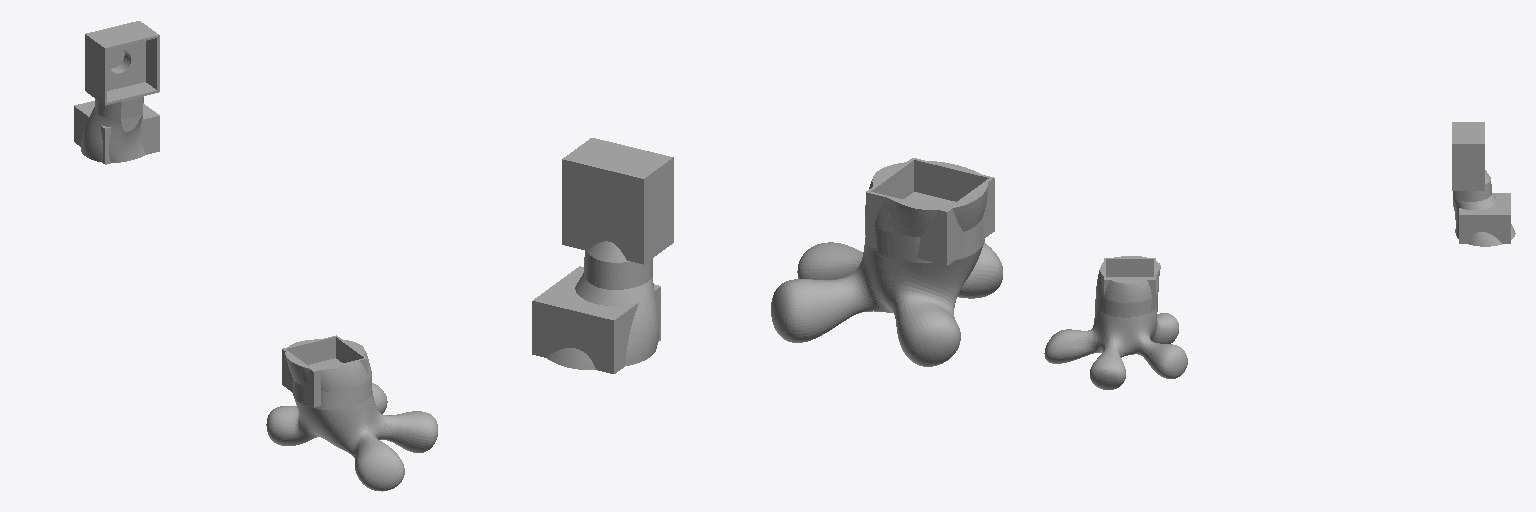
robot.urdf — FrogBot1_top-FrogBot1-x-3_bottom-FrogBot1-x-3:
<?xml version="1.0" ?>
<robot name="FrogBot1_top-FrogBot1-x-3_bottom-FrogBot1-x-3">

<material name="pla_5_percent_infill">
  <color rgba="0.700 0.700 0.700 1.000"/>
</material>

<link name="base_link">
  <inertial>
    <origin xyz="0 0 0" rpy="0 0 0"/>
    <mass value="1.4103143072721238"/>
    <inertia ixx="0.004671865419262023" iyy="0.01102984328633242" izz="0.011972094032648898" ixy="0.00015185420958179873" iyz="8.583160306759328e-05" ixz="-0.0012132770853355082"/>
  </inertial>
  <visual>
    <origin xyz="0 0 0" rpy="0 0 0"/>
    <geometry>
      <mesh filename="simple_meshes/base_link.stl" scale="0.001 0.001 0.001"/>
    </geometry>
    <material name="pla_5_percent_infill"/>
  </visual>
  <collision>
    <origin xyz="0 0 0" rpy="0 0 0"/>
    <geometry>
      <mesh filename="simple_meshes/base_link.stl" scale="0.001 0.001 0.001"/>
    </geometry>
  </collision>
</link>

<link name="body_1_0_1">
  <inertial>
    <origin xyz="-0.045735 -0.109621 -0.00462" rpy="0 0 0"/>
    <mass value="0.036816839315531674"/>
    <inertia ixx="3.3261861283565984e-05" iyy="3.519296624782467e-05" izz="1.3938356868074386e-05" ixy="-4.265336920233399e-07" iyz="2.6492382800553493e-06" ixz="5.157345946494912e-07"/>
  </inertial>
  <visual>
    <origin xyz="-0.045735 -0.109621 -0.00462" rpy="0 0 0"/>
    <geometry>
      <mesh filename="simple_meshes/body_1_0_1.stl" scale="0.001 0.001 0.001"/>
    </geometry>
    <material name="pla_5_percent_infill"/>
  </visual>
  <collision>
    <origin xyz="-0.045735 -0.109621 -0.00462" rpy="0 0 0"/>
    <geometry>
      <mesh filename="simple_meshes/body_1_0_1.stl" scale="0.001 0.001 0.001"/>
    </geometry>
  </collision>
</link>

<link name="body_1_1_1">
  <inertial>
    <origin xyz="0.086489 -0.109621 -0.018802" rpy="0 0 0"/>
    <mass value="0.06559506613853651"/>
    <inertia ixx="6.629905064154556e-05" iyy="7.393990886567713e-05" izz="3.9642127626775357e-05" ixy="5.856969708016406e-06" iyz="1.1941855874648944e-05" ixz="-1.8348720592576556e-05"/>
  </inertial>
  <visual>
    <origin xyz="0.086489 -0.109621 -0.018802" rpy="0 0 0"/>
    <geometry>
      <mesh filename="simple_meshes/body_1_1_1.stl" scale="0.001 0.001 0.001"/>
    </geometry>
    <material name="pla_5_percent_infill"/>
  </visual>
  <collision>
    <origin xyz="0.086489 -0.109621 -0.018802" rpy="0 0 0"/>
    <geometry>
      <mesh filename="simple_meshes/body_1_1_1.stl" scale="0.001 0.001 0.001"/>
    </geometry>
  </collision>
</link>

<link name="body_1_2_1">
  <inertial>
    <origin xyz="-0.040267 0.109621 -0.027764" rpy="0 0 0"/>
    <mass value="0.048496096984098784"/>
    <inertia ixx="6.754083196413001e-05" iyy="6.648024763795352e-05" izz="2.190181581625608e-05" ixy="5.970174061972733e-07" iyz="-1.235478626947593e-05" ixz="-1.747911975166136e-07"/>
  </inertial>
  <visual>
    <origin xyz="-0.040267 0.109621 -0.027764" rpy="0 0 0"/>
    <geometry>
      <mesh filename="simple_meshes/body_1_2_1.stl" scale="0.001 0.001 0.001"/>
    </geometry>
    <material name="pla_5_percent_infill"/>
  </visual>
  <collision>
    <origin xyz="-0.040267 0.109621 -0.027764" rpy="0 0 0"/>
    <geometry>
      <mesh filename="simple_meshes/body_1_2_1.stl" scale="0.001 0.001 0.001"/>
    </geometry>
  </collision>
</link>

<link name="body_1_3_1">
  <inertial>
    <origin xyz="0.090407 0.109621 -0.022193" rpy="0 0 0"/>
    <mass value="0.06692943976941065"/>
    <inertia ixx="7.334782159107065e-05" iyy="8.31248047402258e-05" izz="4.391970333306183e-05" ixy="-7.235259649224831e-06" iyz="-1.4657093617750547e-05" ixz="-2.22373108672184e-05"/>
  </inertial>
  <visual>
    <origin xyz="0.090407 0.109621 -0.022193" rpy="0 0 0"/>
    <geometry>
      <mesh filename="simple_meshes/body_1_3_1.stl" scale="0.001 0.001 0.001"/>
    </geometry>
    <material name="pla_5_percent_infill"/>
  </visual>
  <collision>
    <origin xyz="0.090407 0.109621 -0.022193" rpy="0 0 0"/>
    <geometry>
      <mesh filename="simple_meshes/body_1_3_1.stl" scale="0.001 0.001 0.001"/>
    </geometry>
  </collision>
</link>

<link name="body_2_0_1">
  <inertial>
    <origin xyz="-0.049562 -0.159797 0.090064" rpy="0 0 0"/>
    <mass value="0.09765953359959353"/>
    <inertia ixx="0.0001066576688500227" iyy="0.00011812377534957093" izz="0.00013324451863084468" ixy="-4.559227271790046e-06" iyz="-1.2718280083387143e-06" ixz="2.6854915758550788e-05"/>
  </inertial>
  <visual>
    <origin xyz="-0.049562 -0.159797 0.090064" rpy="0 0 0"/>
    <geometry>
      <mesh filename="simple_meshes/body_2_0_1.stl" scale="0.001 0.001 0.001"/>
    </geometry>
    <material name="pla_5_percent_infill"/>
  </visual>
  <collision>
    <origin xyz="-0.049562 -0.159797 0.090064" rpy="0 0 0"/>
    <geometry>
      <mesh filename="simple_meshes/body_2_0_1.stl" scale="0.001 0.001 0.001"/>
    </geometry>
  </collision>
</link>

<link name="body_2_1_1">
  <inertial>
    <origin xyz="0.121182 -0.173952 0.090064" rpy="0 0 0"/>
    <mass value="0.10349185384295746"/>
    <inertia ixx="0.00011224256670325575" iyy="0.00012067525629311975" izz="0.00013839302704228736" ixy="7.678045576991512e-07" iyz="1.60016884134021e-05" ixz="3.2554826547826887e-05"/>
  </inertial>
  <visual>
    <origin xyz="0.121182 -0.173952 0.090064" rpy="0 0 0"/>
    <geometry>
      <mesh filename="simple_meshes/body_2_1_1.stl" scale="0.001 0.001 0.001"/>
    </geometry>
    <material name="pla_5_percent_infill"/>
  </visual>
  <collision>
    <origin xyz="0.121182 -0.173952 0.090064" rpy="0 0 0"/>
    <geometry>
      <mesh filename="simple_meshes/body_2_1_1.stl" scale="0.001 0.001 0.001"/>
    </geometry>
  </collision>
</link>

<link name="body_2_2_1">
  <inertial>
    <origin xyz="-0.04311 0.170506 0.090064" rpy="0 0 0"/>
    <mass value="0.09960767761848395"/>
    <inertia ixx="0.00011535737008446043" iyy="0.0001088533759726648" izz="0.00013560616396882325" ixy="9.99440604436408e-07" iyz="-6.676525370611329e-06" ixz="1.915443571425424e-05"/>
  </inertial>
  <visual>
    <origin xyz="-0.04311 0.170506 0.090064" rpy="0 0 0"/>
    <geometry>
      <mesh filename="simple_meshes/body_2_2_1.stl" scale="0.001 0.001 0.001"/>
    </geometry>
    <material name="pla_5_percent_infill"/>
  </visual>
  <collision>
    <origin xyz="-0.04311 0.170506 0.090064" rpy="0 0 0"/>
    <geometry>
      <mesh filename="simple_meshes/body_2_2_1.stl" scale="0.001 0.001 0.001"/>
    </geometry>
  </collision>
</link>

<link name="body_2_3_1">
  <inertial>
    <origin xyz="0.129712 0.175384 0.090064" rpy="0 0 0"/>
    <mass value="0.10186277814313772"/>
    <inertia ixx="0.00011995536838540783" iyy="0.00011579226631780459" izz="0.00012879421767877323" ixy="5.809966107374505e-06" iyz="-2.166733805539483e-05" ixz="3.203201460845939e-05"/>
  </inertial>
  <visual>
    <origin xyz="0.129712 0.175384 0.090064" rpy="0 0 0"/>
    <geometry>
      <mesh filename="simple_meshes/body_2_3_1.stl" scale="0.001 0.001 0.001"/>
    </geometry>
    <material name="pla_5_percent_infill"/>
  </visual>
  <collision>
    <origin xyz="0.129712 0.175384 0.090064" rpy="0 0 0"/>
    <geometry>
      <mesh filename="simple_meshes/body_2_3_1.stl" scale="0.001 0.001 0.001"/>
    </geometry>
  </collision>
</link>

<joint name="joint_1_0" type="revolute">
  <origin xyz="0.045735 0.109621 0.00462" rpy="0 0 0"/>
  <parent link="base_link"/>
  <child link="body_1_0_1"/>
  <axis xyz="1.0 0.0 0.0"/>
  <limit upper="1.2" lower="-1.2" effort="3.8" velocity="5.4"/>
</joint>
<transmission name="joint_1_0_tran">
  <type>transmission_interface/SimpleTransmission</type>
  <joint name="joint_1_0">
    <hardwareInterface>PositionJointInterface</hardwareInterface>
  </joint>
  <actuator name="joint_1_0_actr">
    <hardwareInterface>PositionJointInterface</hardwareInterface>
    <mechanicalReduction>1</mechanicalReduction>
  </actuator>
</transmission>

<joint name="joint_1_1" type="revolute">
  <origin xyz="-0.086489 0.109621 0.018802" rpy="0 0 0"/>
  <parent link="base_link"/>
  <child link="body_1_1_1"/>
  <axis xyz="1.0 0.0 0.0"/>
  <limit upper="1.2" lower="-1.2" effort="3.8" velocity="5.4"/>
</joint>
<transmission name="joint_1_1_tran">
  <type>transmission_interface/SimpleTransmission</type>
  <joint name="joint_1_1">
    <hardwareInterface>PositionJointInterface</hardwareInterface>
  </joint>
  <actuator name="joint_1_1_actr">
    <hardwareInterface>PositionJointInterface</hardwareInterface>
    <mechanicalReduction>1</mechanicalReduction>
  </actuator>
</transmission>

<joint name="joint_1_2" type="revolute">
  <origin xyz="0.040267 -0.109621 0.027764" rpy="0 0 0"/>
  <parent link="base_link"/>
  <child link="body_1_2_1"/>
  <axis xyz="1.0 0.0 0.0"/>
  <limit upper="1.2" lower="-1.2" effort="3.8" velocity="5.4"/>
</joint>
<transmission name="joint_1_2_tran">
  <type>transmission_interface/SimpleTransmission</type>
  <joint name="joint_1_2">
    <hardwareInterface>PositionJointInterface</hardwareInterface>
  </joint>
  <actuator name="joint_1_2_actr">
    <hardwareInterface>PositionJointInterface</hardwareInterface>
    <mechanicalReduction>1</mechanicalReduction>
  </actuator>
</transmission>

<joint name="joint_1_3" type="revolute">
  <origin xyz="-0.090407 -0.109621 0.022193" rpy="0 0 0"/>
  <parent link="base_link"/>
  <child link="body_1_3_1"/>
  <axis xyz="1.0 0.0 0.0"/>
  <limit upper="1.2" lower="-1.2" effort="3.8" velocity="5.4"/>
</joint>
<transmission name="joint_1_3_tran">
  <type>transmission_interface/SimpleTransmission</type>
  <joint name="joint_1_3">
    <hardwareInterface>PositionJointInterface</hardwareInterface>
  </joint>
  <actuator name="joint_1_3_actr">
    <hardwareInterface>PositionJointInterface</hardwareInterface>
    <mechanicalReduction>1</mechanicalReduction>
  </actuator>
</transmission>

<joint name="joint_2_0" type="revolute">
  <origin xyz="0.003827 0.050176 -0.094684" rpy="0 0 0"/>
  <parent link="body_1_0_1"/>
  <child link="body_2_0_1"/>
  <axis xyz="1.0 0.0 0.0"/>
  <limit upper="1.2" lower="-1.2" effort="3.8" velocity="5.4"/>
</joint>
<transmission name="joint_2_0_tran">
  <type>transmission_interface/SimpleTransmission</type>
  <joint name="joint_2_0">
    <hardwareInterface>PositionJointInterface</hardwareInterface>
  </joint>
  <actuator name="joint_2_0_actr">
    <hardwareInterface>PositionJointInterface</hardwareInterface>
    <mechanicalReduction>1</mechanicalReduction>
  </actuator>
</transmission>

<joint name="joint_2_1" type="revolute">
  <origin xyz="-0.034693 0.064331 -0.108866" rpy="0 0 0"/>
  <parent link="body_1_1_1"/>
  <child link="body_2_1_1"/>
  <axis xyz="1.0 0.0 0.0"/>
  <limit upper="1.2" lower="-1.2" effort="3.8" velocity="5.4"/>
</joint>
<transmission name="joint_2_1_tran">
  <type>transmission_interface/SimpleTransmission</type>
  <joint name="joint_2_1">
    <hardwareInterface>PositionJointInterface</hardwareInterface>
  </joint>
  <actuator name="joint_2_1_actr">
    <hardwareInterface>PositionJointInterface</hardwareInterface>
    <mechanicalReduction>1</mechanicalReduction>
  </actuator>
</transmission>

<joint name="joint_2_2" type="revolute">
  <origin xyz="0.002843 -0.060885 -0.117828" rpy="0 0 0"/>
  <parent link="body_1_2_1"/>
  <child link="body_2_2_1"/>
  <axis xyz="1.0 0.0 0.0"/>
  <limit upper="1.2" lower="-1.2" effort="3.8" velocity="5.4"/>
</joint>
<transmission name="joint_2_2_tran">
  <type>transmission_interface/SimpleTransmission</type>
  <joint name="joint_2_2">
    <hardwareInterface>PositionJointInterface</hardwareInterface>
  </joint>
  <actuator name="joint_2_2_actr">
    <hardwareInterface>PositionJointInterface</hardwareInterface>
    <mechanicalReduction>1</mechanicalReduction>
  </actuator>
</transmission>

<joint name="joint_2_3" type="revolute">
  <origin xyz="-0.039305 -0.065763 -0.112257" rpy="0 0 0"/>
  <parent link="body_1_3_1"/>
  <child link="body_2_3_1"/>
  <axis xyz="1.0 0.0 0.0"/>
  <limit upper="1.2" lower="-1.2" effort="3.8" velocity="5.4"/>
</joint>
<transmission name="joint_2_3_tran">
  <type>transmission_interface/SimpleTransmission</type>
  <joint name="joint_2_3">
    <hardwareInterface>PositionJointInterface</hardwareInterface>
  </joint>
  <actuator name="joint_2_3_actr">
    <hardwareInterface>PositionJointInterface</hardwareInterface>
    <mechanicalReduction>1</mechanicalReduction>
  </actuator>
</transmission>

</robot>

--- Facts derived from the render (not from the file) ---
3 views of the same robot in one strip: view 1: azimuth 30°, elevation 25°; view 2: azimuth 150°, elevation 25°; view 3: azimuth 270°, elevation 25° (orthographic).
Robot: FrogBot1_top-FrogBot1-x-3_bottom-FrogBot1-x-3 — 9 links, 8 joints (8 revolute); root link base_link; default pose: every joint at zero.
Visible links, largest first — view 1: body_2_2_1, body_1_0_1; view 2: body_2_2_1, body_1_0_1; view 3: body_2_2_1, body_1_0_1.
Link boxes in pixels (<box>): body_2_2_1: <box>266,335,437,491</box>; body_1_0_1: <box>74,21,159,164</box>; body_2_2_1: <box>771,158,1002,366</box>; body_1_0_1: <box>532,138,673,373</box>; body_2_2_1: <box>1044,256,1187,389</box>; body_1_0_1: <box>1452,122,1515,246</box>.
Size in the robot's own frame: 0.1186 by 0.4387 by 0.2328 metres.
Meshes: 9 distinct files referenced, 2 mesh visuals loaded (2 binary STL); not drawn: 7 (reference not matched to a file when rendering).